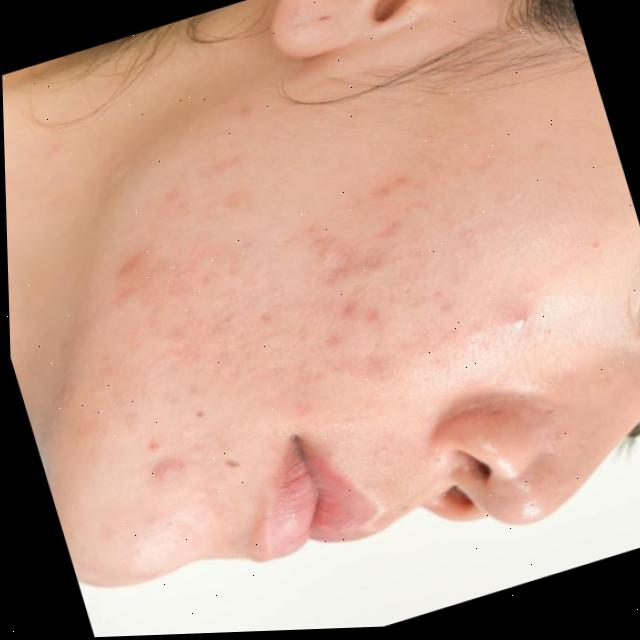Acne: (105, 158, 500, 470)
